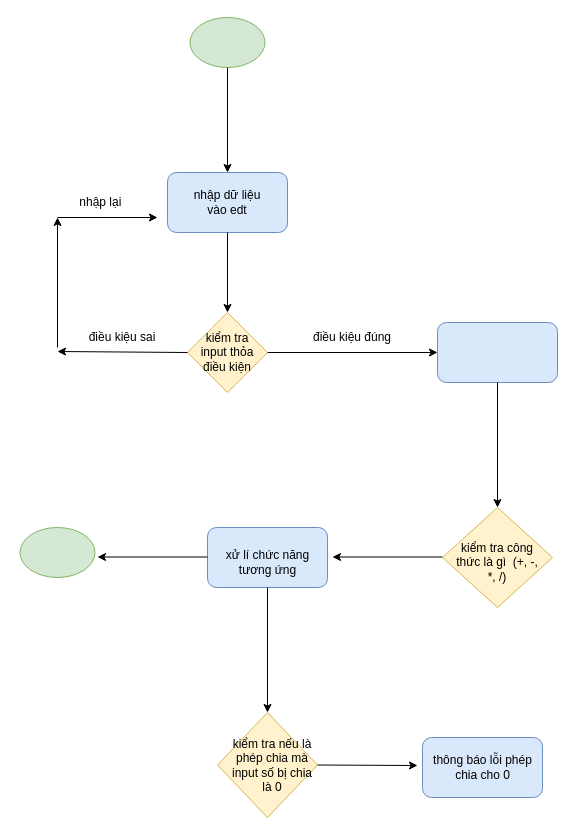
Image size: 575x835. Some labels were removed from this diagram. The shapes that lost their labels are listed below. From the top down, each one's box as (x1, y1, x2, y2) in pixels, then its label:
(189, 16, 265, 68): Start
(436, 322, 558, 382): chấp nhận input, tiếp tục kiểm tra công thức
(19, 526, 95, 578): End
